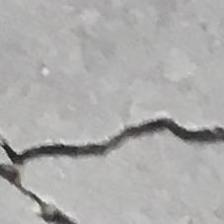Crack: (0, 114, 224, 224)
